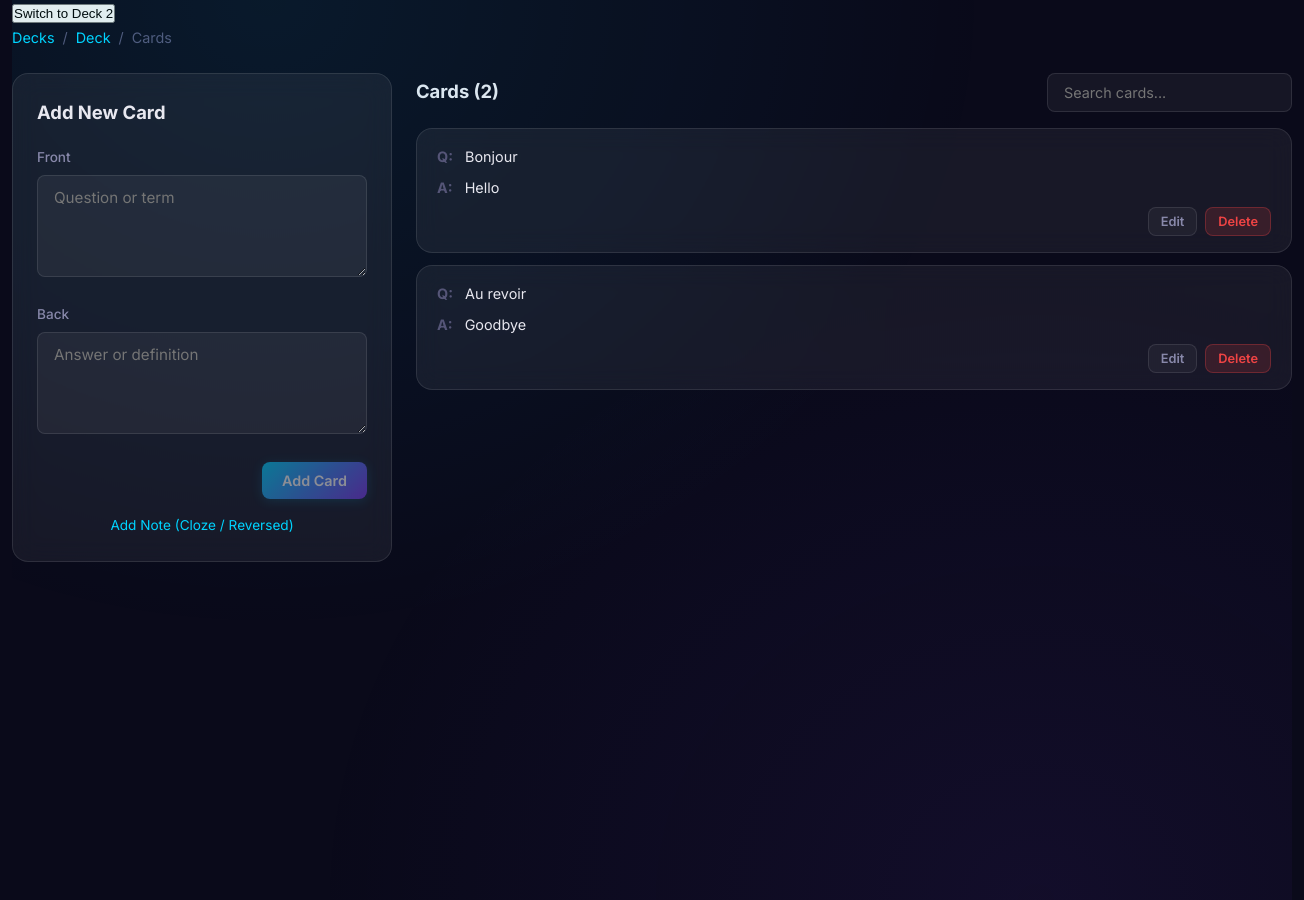
CardEditorPage UI Async Race Conditions › Cancel whileloading andlate responseignored: cancelling load ignores late response
This screenshot has width=1304, height=900.
Expected: the heading "Cards (2)" is shown, [416,77,499,107]
// Click Edit on Card A
Click the 1st button "Edit" at x=1172, y=221, box [1148,207,1197,236]
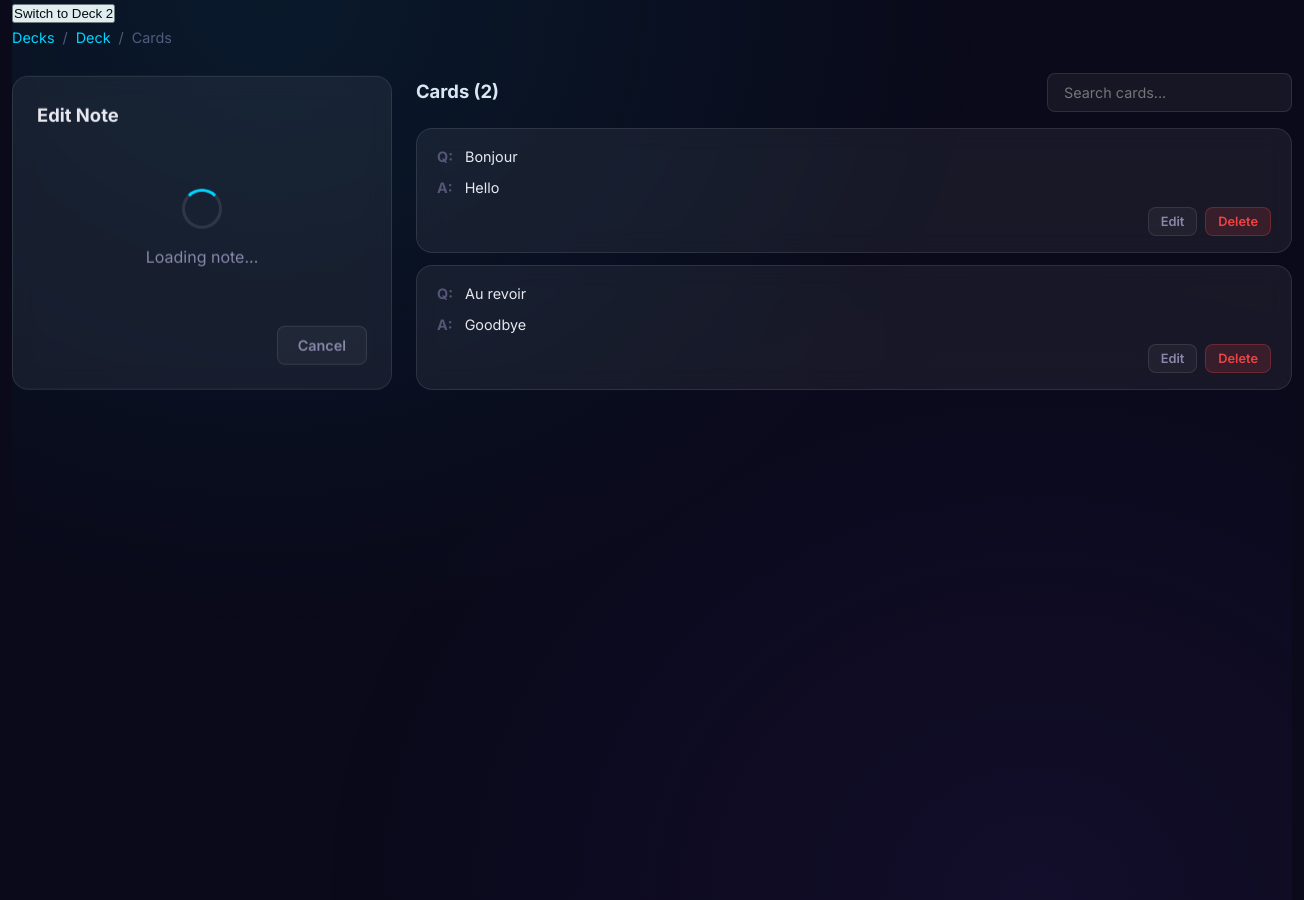
Now the message named "Loading note" is shown, box [182,189,222,229]
Now the button "Cancel" is shown
// User cancels while loading
Click the button "Cancel" at x=322, y=345, box [277,326,367,365]
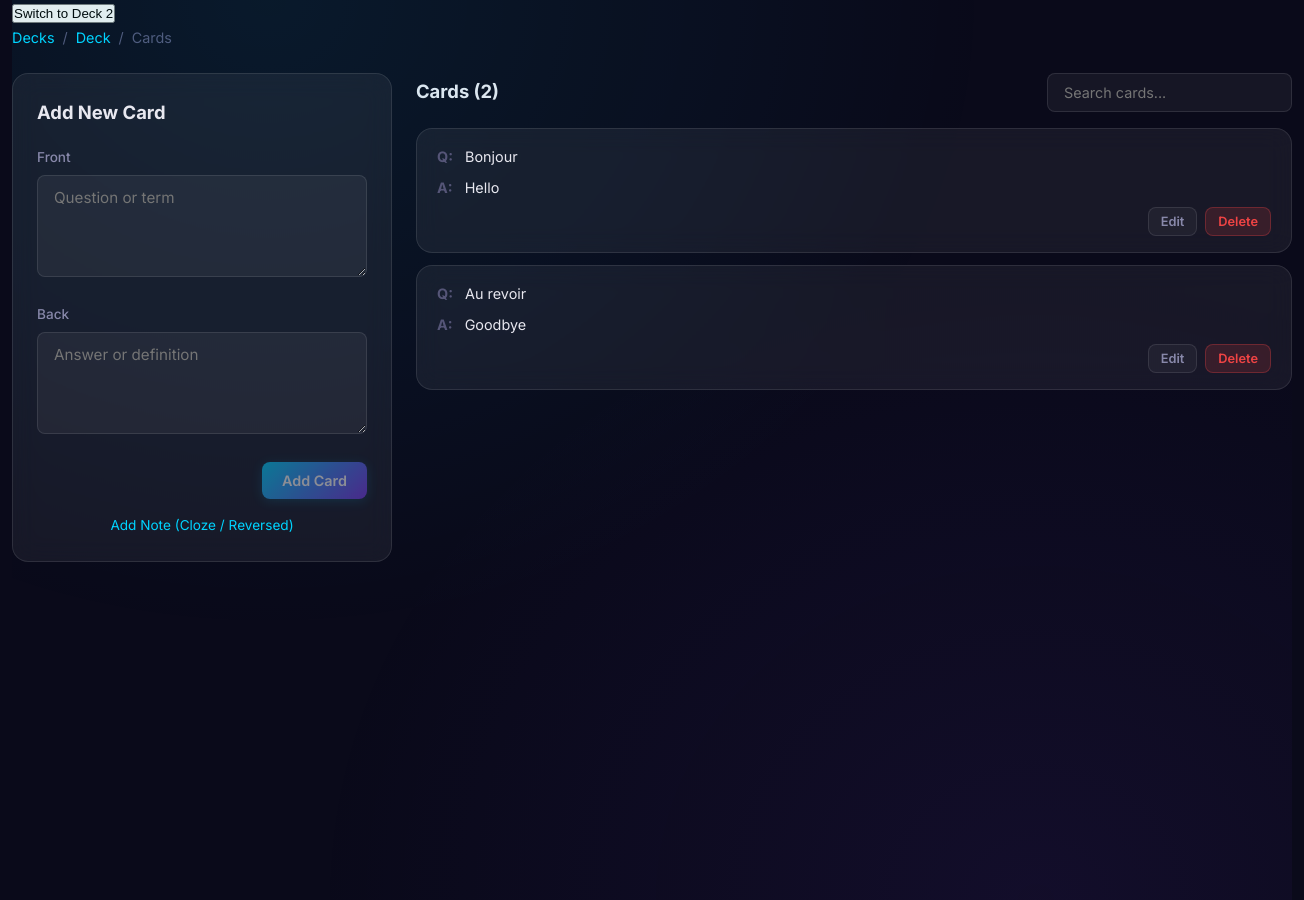
Expected: the text "Bonjour" is shown, [465,148,518,165]
Now the heading "Add New Card" is shown, box [37,101,166,123]
Now the heading "Edit Note" is gone
